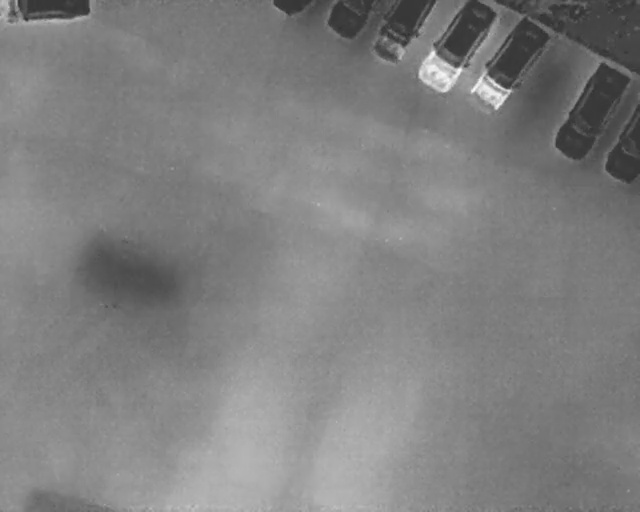Car: (545, 56, 637, 169), (462, 11, 558, 119), (416, 0, 500, 94), (370, 0, 438, 65), (604, 102, 639, 185), (0, 0, 92, 26), (326, 0, 374, 41), (270, 0, 314, 17)
